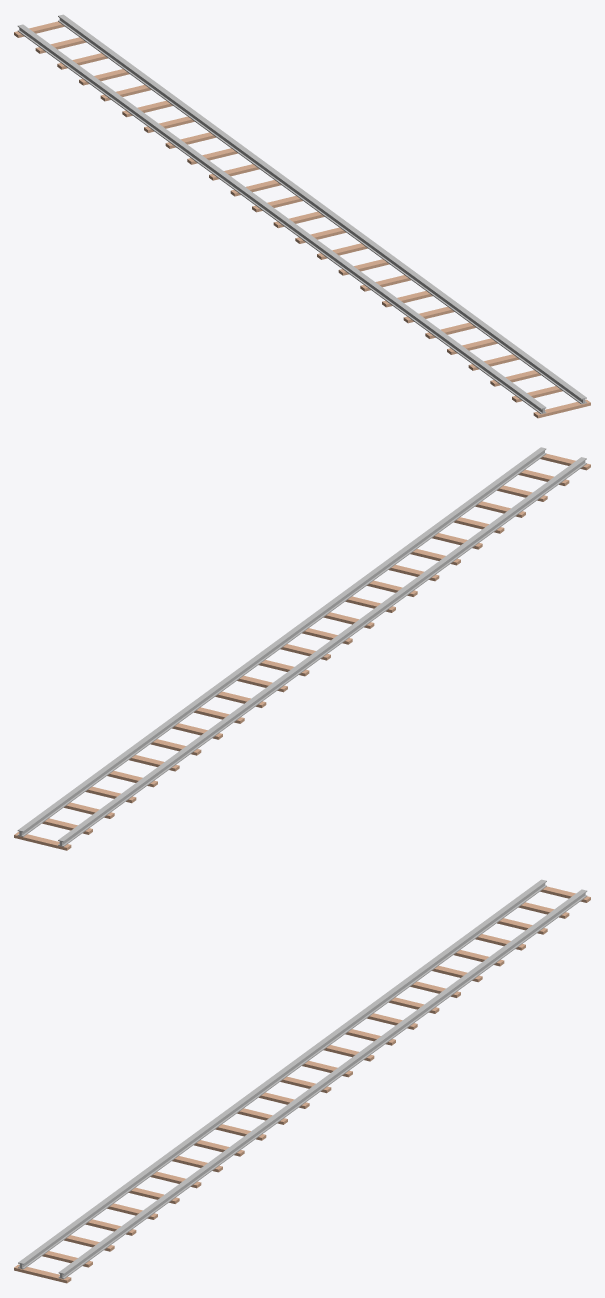
File: duongray.fbx
3 views of the same model, one above another, from view 1: azimuth 30°, elevation 25°; view 2: azimuth 150°, elevation 25°; view 3: azimuth 330°, elevation 25° (orthographic).
Parts seen in each view (by area): view 1: VBox026, VBox029, VBox028, VBox031, VBox030, VBox027; view 2: VBox029, VBox026, VBox031, VBox028, VBox027, VBox030; view 3: VBox029, VBox026, VBox028, VBox031, VBox027, VBox030.
Part boxes in pixels (box(x1,y1,x2,y2)): VBox026: box(17, 24, 546, 409); VBox029: box(58, 14, 586, 399); VBox028: box(17, 30, 546, 414); VBox031: box(58, 20, 586, 404); VBox030: box(59, 18, 585, 402); VBox027: box(19, 28, 544, 412); VBox029: box(17, 447, 546, 832); VBox026: box(58, 457, 586, 842); VBox031: box(17, 453, 546, 836); VBox028: box(58, 462, 586, 846); VBox027: box(59, 461, 585, 845); VBox030: box(19, 451, 544, 835); VBox029: box(58, 889, 587, 1274); VBox026: box(18, 879, 546, 1264); VBox028: box(18, 885, 546, 1269); VBox031: box(58, 895, 587, 1279); VBox027: box(19, 883, 545, 1267); VBox030: box(60, 893, 585, 1277).
Bounding box in the file's own units: 58 × 8.87 × 991.
